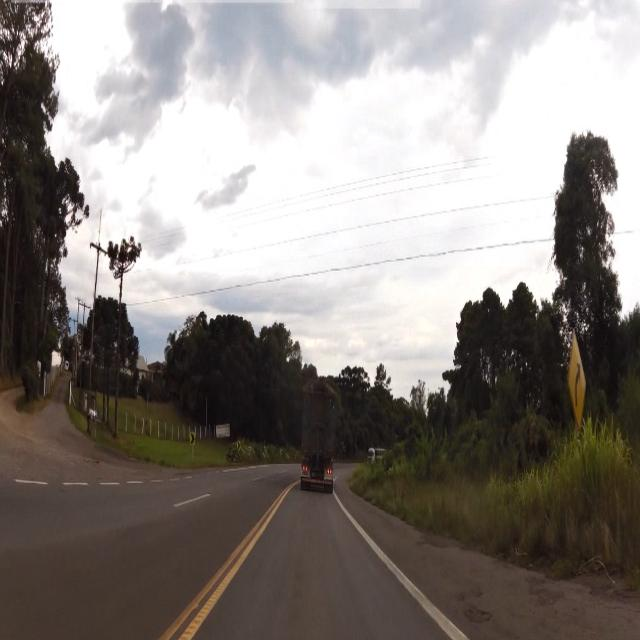A-2b: (568, 329, 586, 428)
